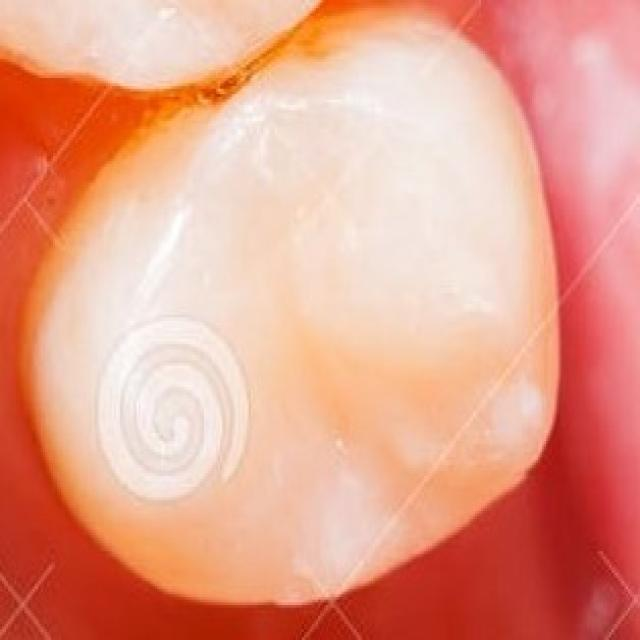Carrier: (162, 49, 272, 114)
